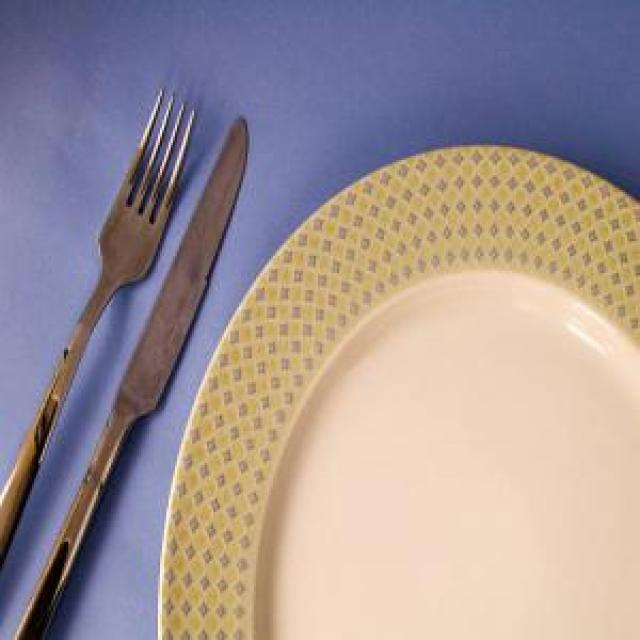knife: (13, 113, 252, 638)
